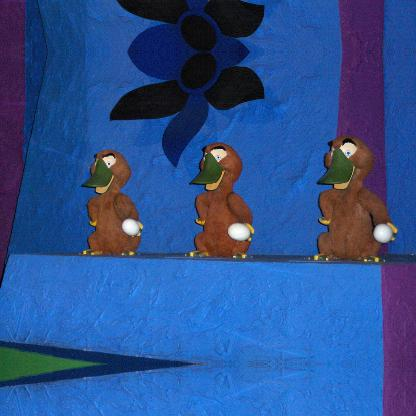Bird: (312, 138, 400, 260), (76, 146, 146, 256), (196, 142, 254, 254)
